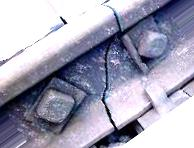tracks_fault: (78, 0, 133, 135)
